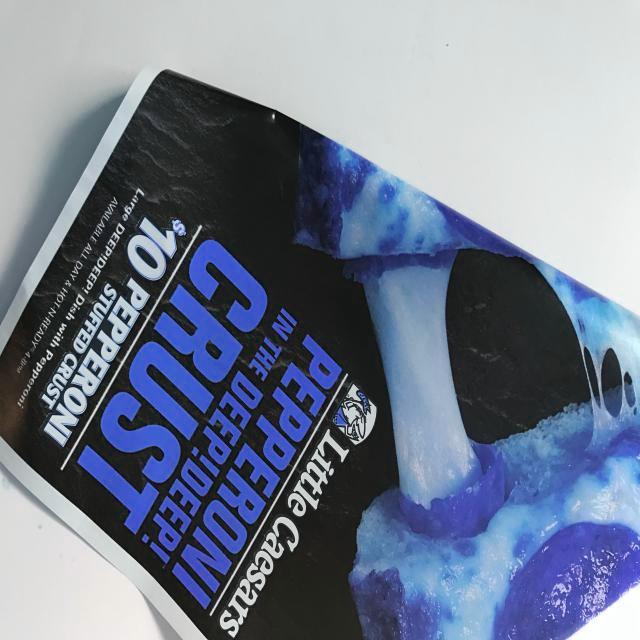paper: (1, 49, 640, 640)
